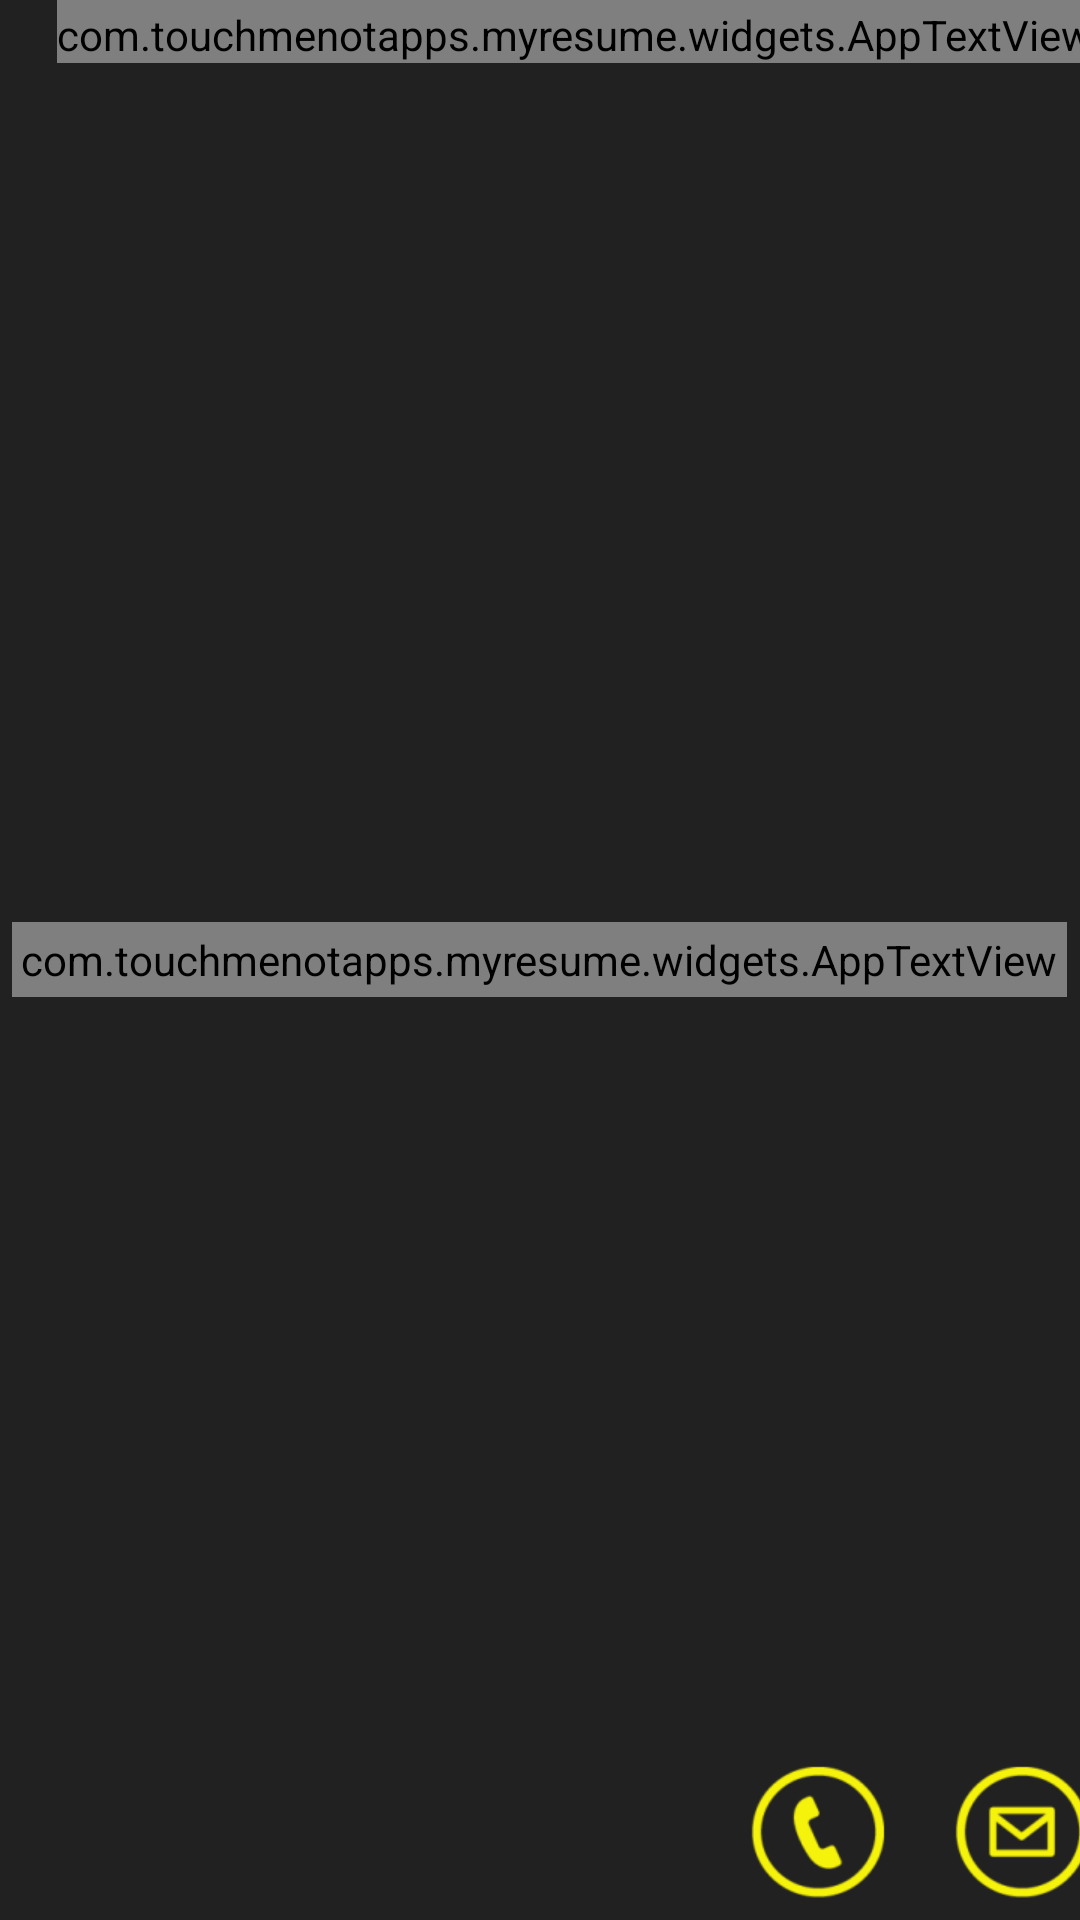

Point at icon controls on the screen. Image size 1080w x 1920h, points as (x,y).
Call Me: (818,1832)
Mail Me: (1018,1832)
